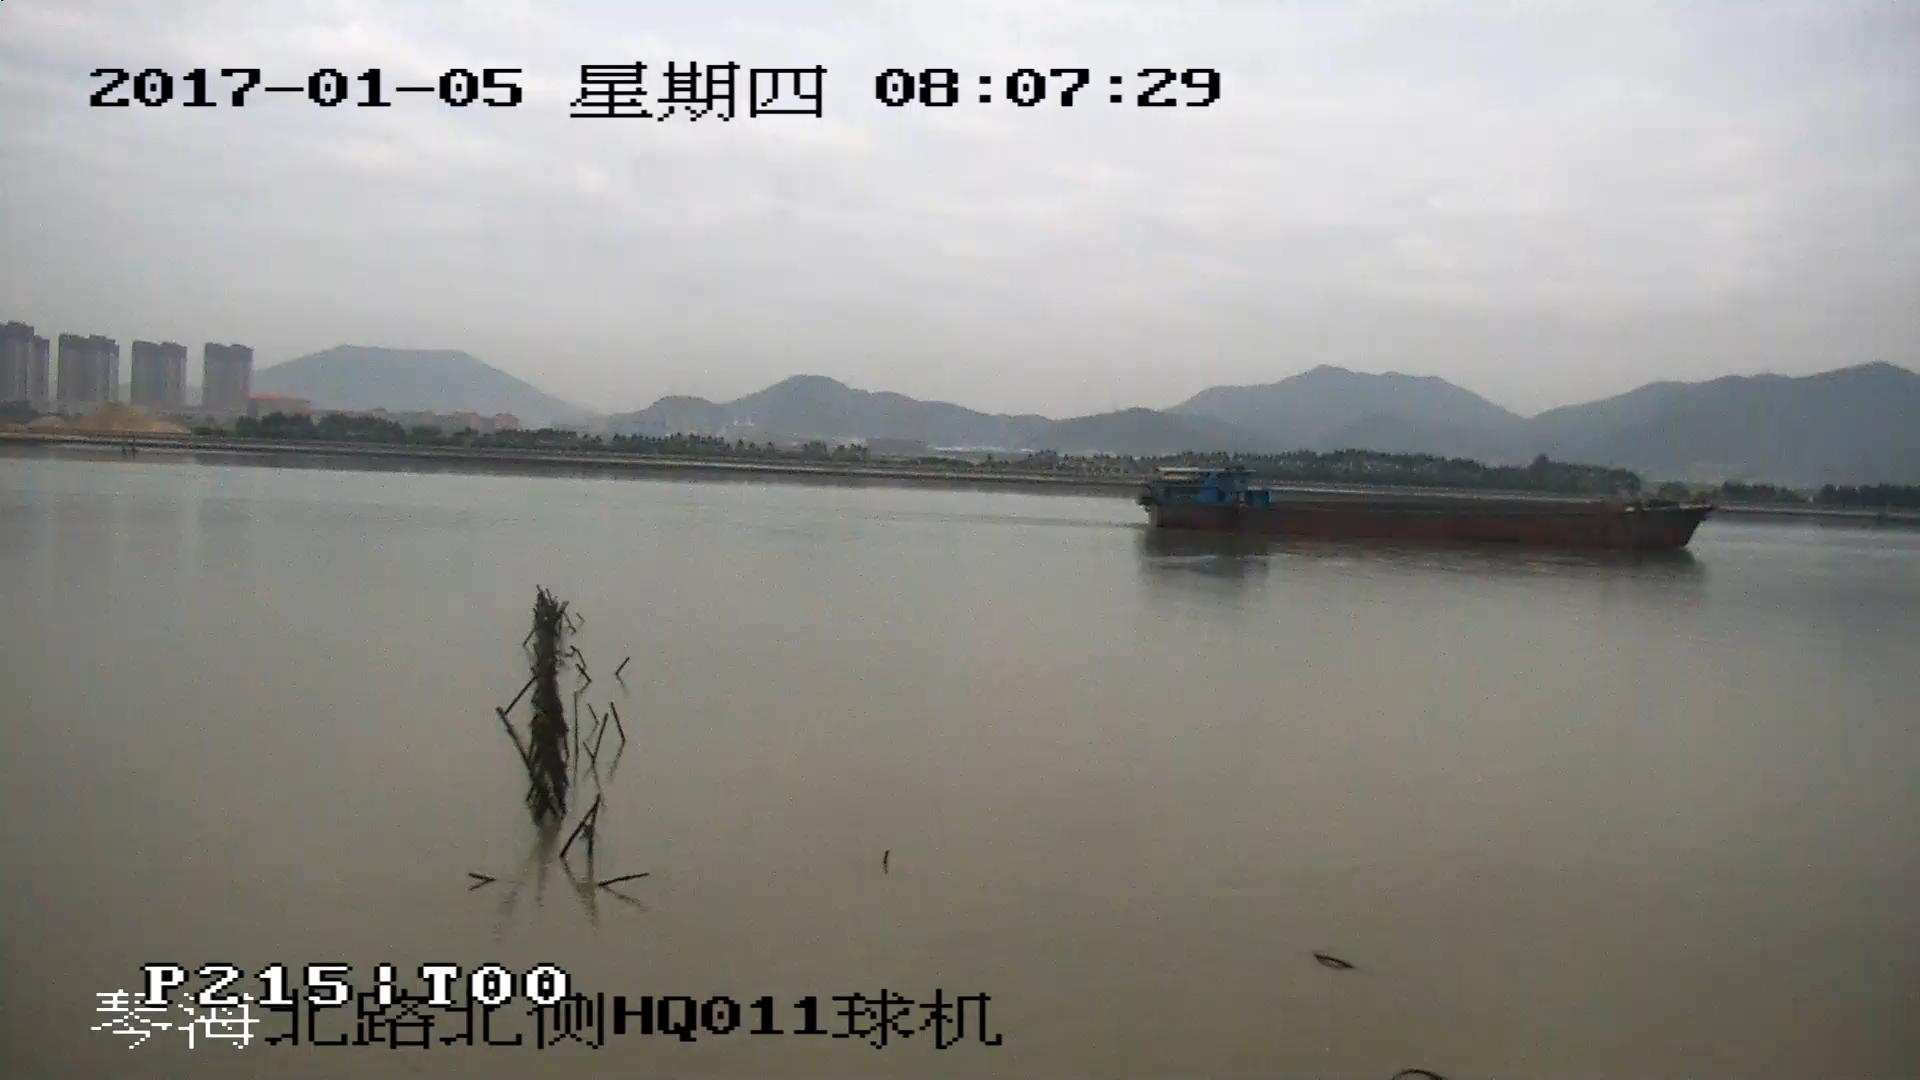bulk cargo carrier: (1128, 466, 1704, 552)
